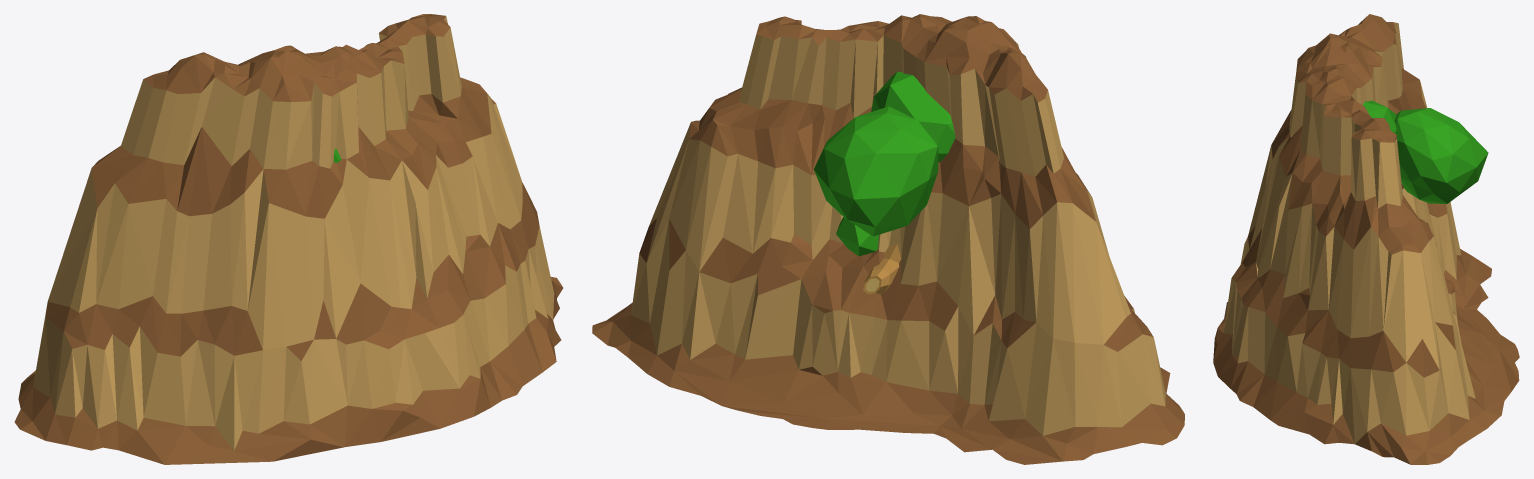
The model's file is isle.glb.
3 views of the same model, side by side, from view 1: azimuth 30°, elevation 25°; view 2: azimuth 150°, elevation 25°; view 3: azimuth 270°, elevation 25° (orthographic). The views are drawn at different scales.
Visible parts, largest first — view 1: Mounting_3; view 2: Mounting_3, Leaves, Tree_1; view 3: Mounting_3, Leaves.
Boxes of the visible parts, x1,y1,x2,y2 form: Mounting_3: (14, 14, 563, 464); Mounting_3: (592, 14, 1184, 464); Leaves: (814, 71, 955, 256); Tree_1: (863, 244, 900, 294); Mounting_3: (1213, 14, 1519, 464); Leaves: (1363, 100, 1488, 203).
Size of the model in its own units: 2470 by 1488 by 1390.
